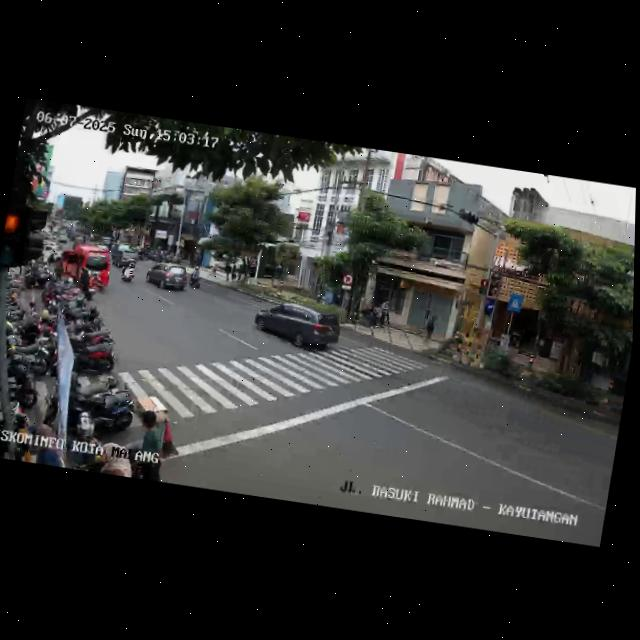car: (252, 297, 345, 360), (53, 241, 113, 295), (143, 260, 191, 295), (110, 243, 141, 271)
motorcycle: (119, 257, 137, 284), (188, 267, 203, 292)
person: (129, 408, 174, 481)
